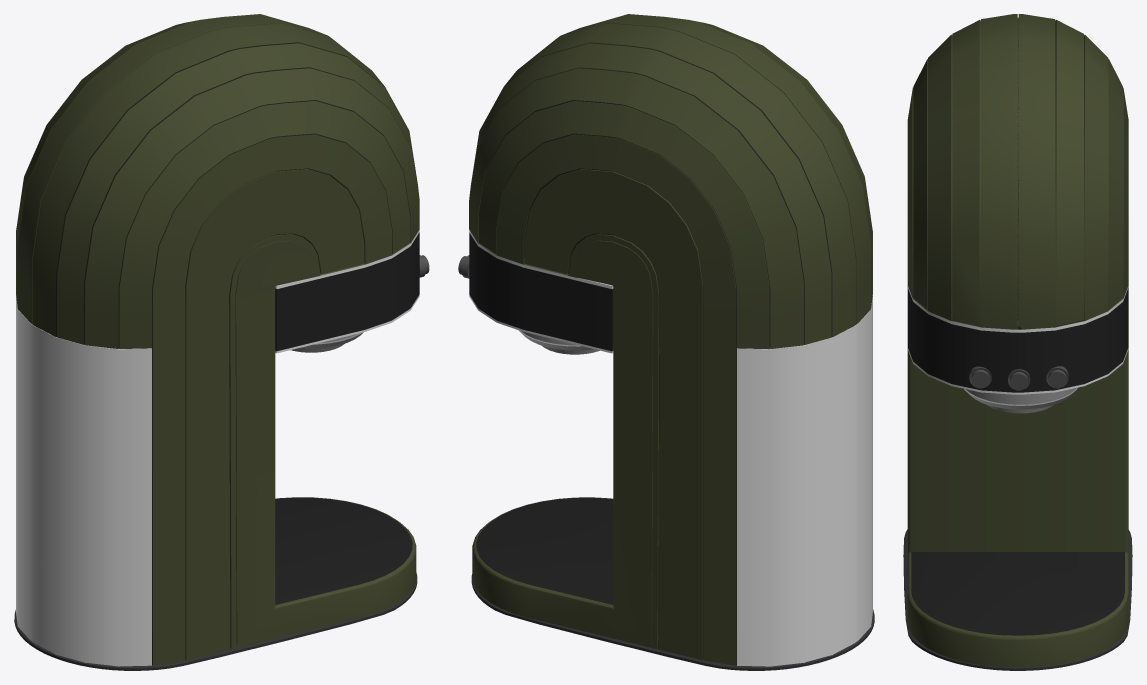
3 views of the same model, side by side, from view 1: azimuth 30°, elevation 25°; view 2: azimuth 150°, elevation 25°; view 3: azimuth 270°, elevation 25° (orthographic). The views are drawn at different scales.
Parts seen in each view (by area): view 1: Cube.005, Cube.007, Cube.001, Cylinder.001; view 2: Cube.005, Cube.007, Cube.001, Cylinder.001, Cylinder; view 3: Cube.005, Cube.001, Cylinder.001, Cylinder, Cylinder.003.
Boxes of the visible parts, <box> form: Cube.005: <box>16,14,419,665</box>; Cube.007: <box>16,296,151,666</box>; Cube.001: <box>275,230,419,353</box>; Cylinder.001: <box>14,572,417,670</box>; Cube.005: <box>469,14,872,665</box>; Cube.007: <box>737,295,872,666</box>; Cube.001: <box>469,230,613,353</box>; Cylinder.001: <box>471,574,874,670</box>; Cylinder: <box>519,330,599,354</box>; Cube.005: <box>907,14,1128,667</box>; Cube.001: <box>908,286,1128,394</box>; Cylinder.001: <box>903,529,1132,670</box>; Cylinder: <box>964,387,1077,413</box>; Cylinder.003: <box>969,366,1068,390</box>.
Bounding box in the file's own units: 115 × 165 × 62.27.
